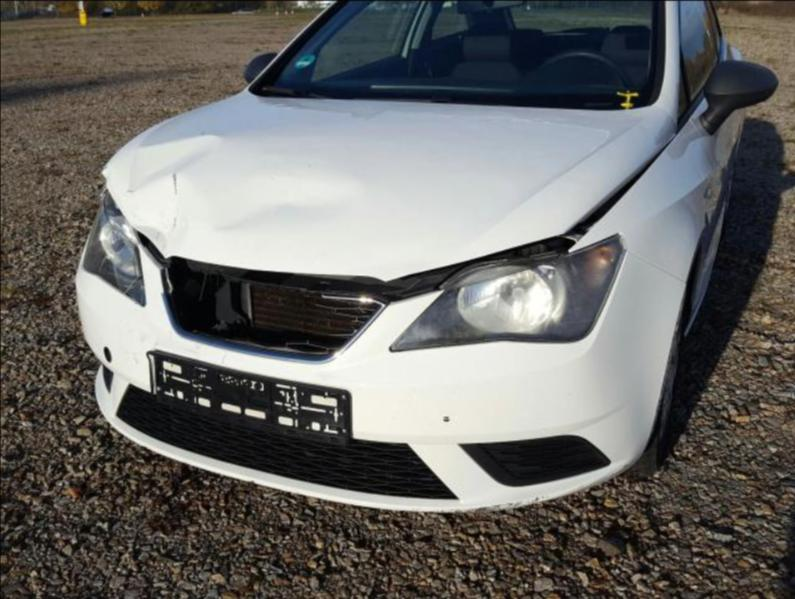Broken part: (95, 134, 678, 308), (160, 262, 388, 363)
Cracked: (82, 189, 145, 307)
Dent: (208, 169, 365, 228), (130, 137, 219, 193), (132, 206, 185, 254), (102, 164, 108, 180)
Missing part: (148, 354, 348, 442)
Scratch: (172, 174, 177, 192), (173, 216, 176, 228), (126, 189, 134, 192)
